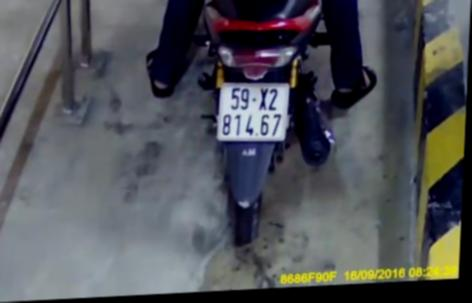License_Plate: (213, 76, 291, 152)
